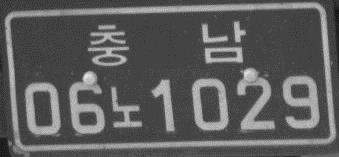0: (189, 76, 231, 132), (23, 80, 62, 137)
1: (148, 76, 178, 133)
2: (232, 73, 277, 133)
6: (67, 79, 106, 137)
9: (280, 73, 322, 129)
노: (106, 83, 145, 131)
충남_D: (85, 18, 247, 67)
